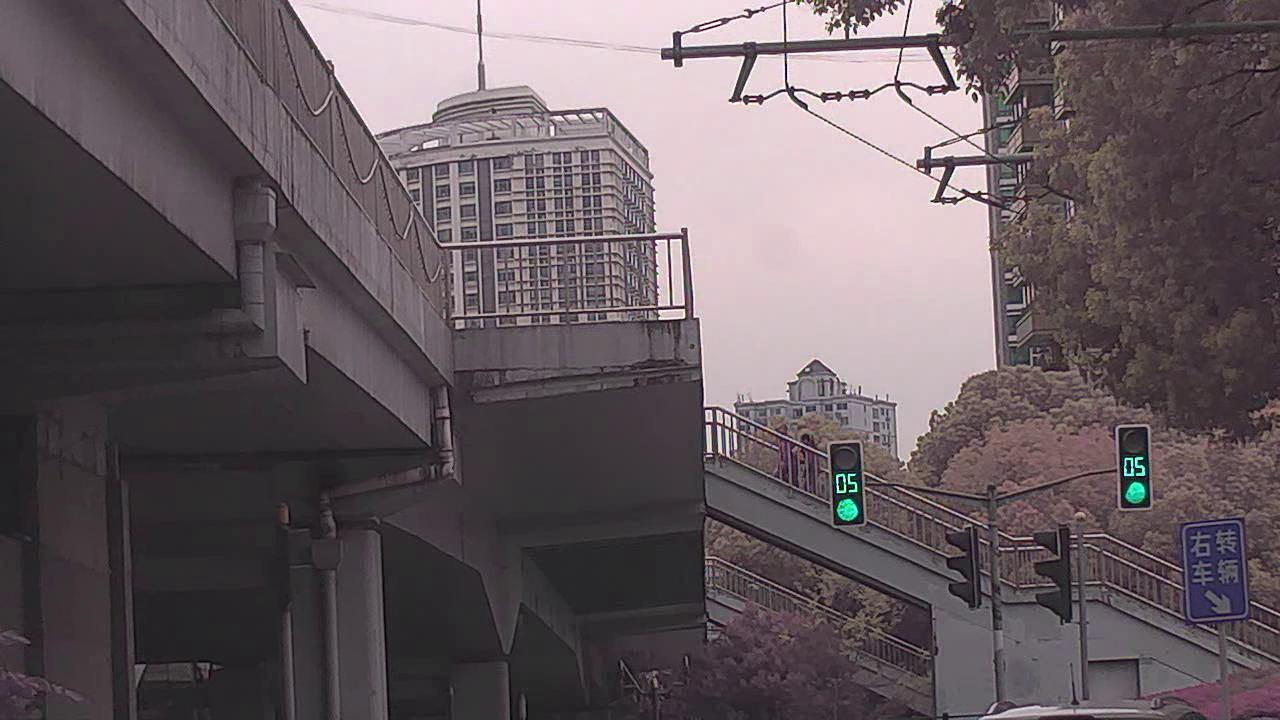traffic_light: (1113, 427, 1154, 510), (829, 442, 862, 527)
